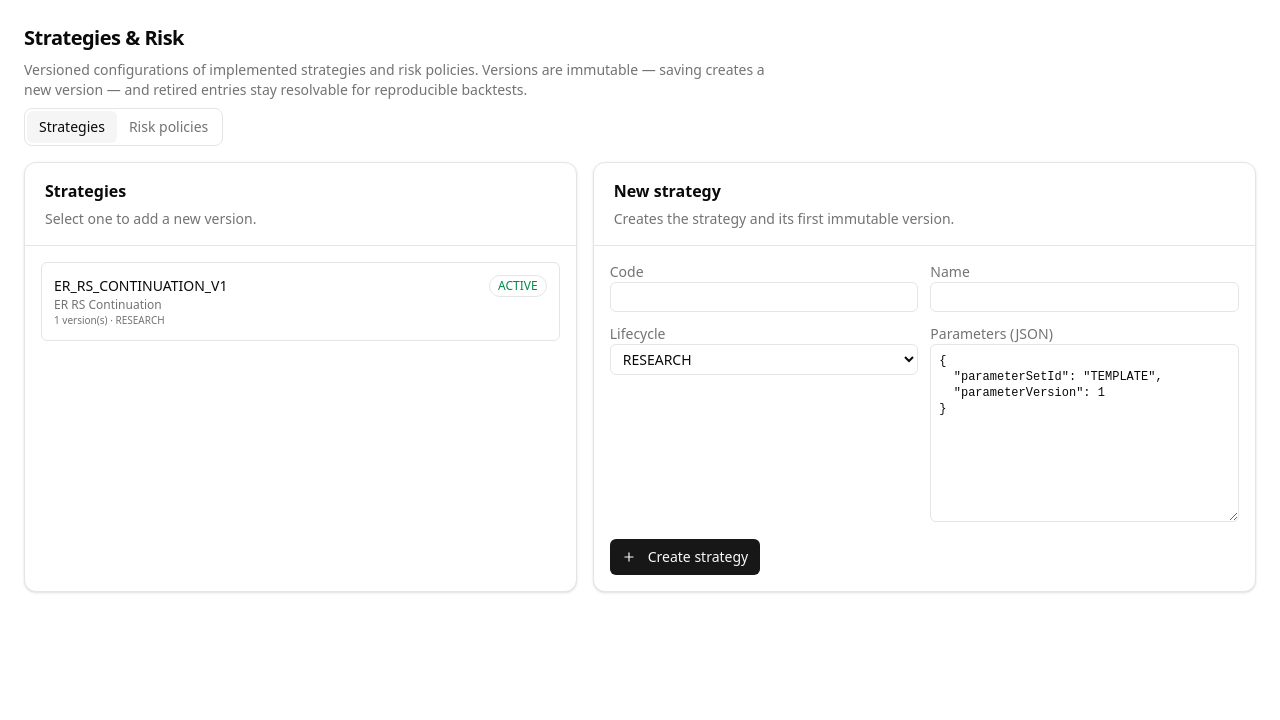
it: creating a strategy sends the edited parameters and reports server validation
The width and height of the screenshot is (1280, 720).
Expected: the text "ER_RS_CONTINUATION_V1" is shown, [54,276,227,296]
In the field named "Strategy code": coordinates (764, 297) [610,282,918,312], type "MY_STRATEGY"
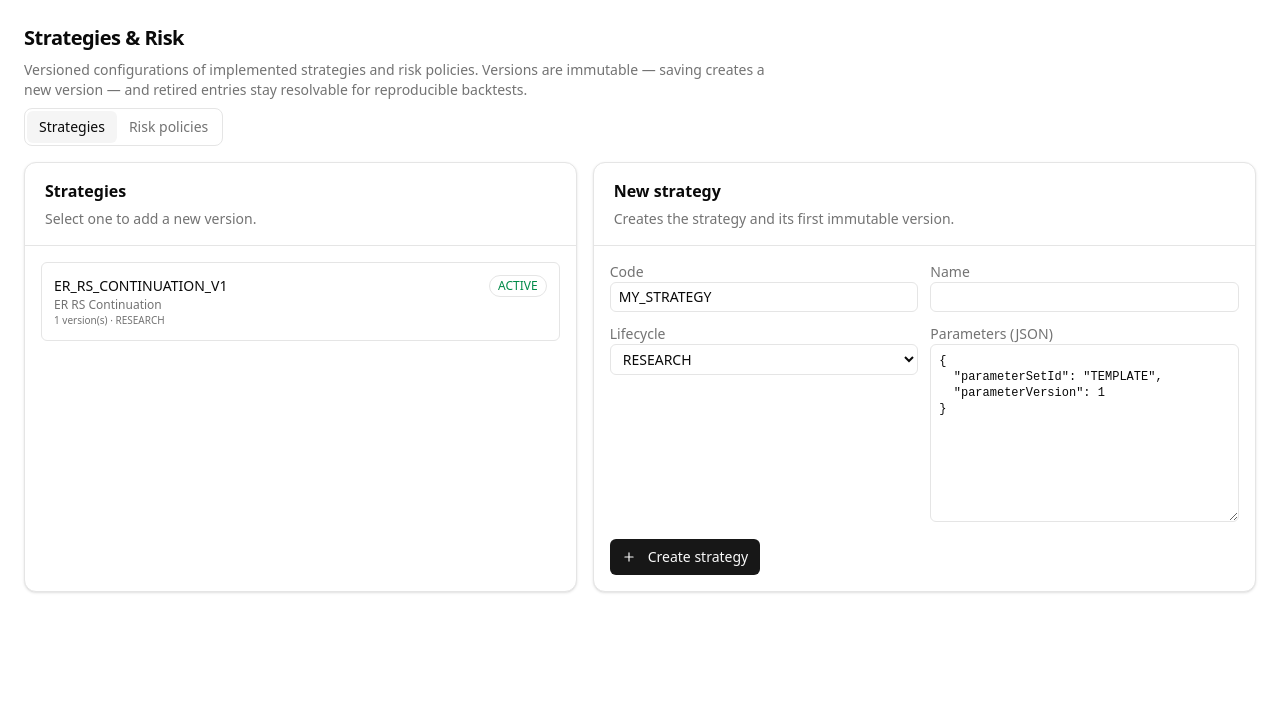
In the field named "Strategy name": coordinates (1085, 297) [930,282,1239,312], type "My Strategy"
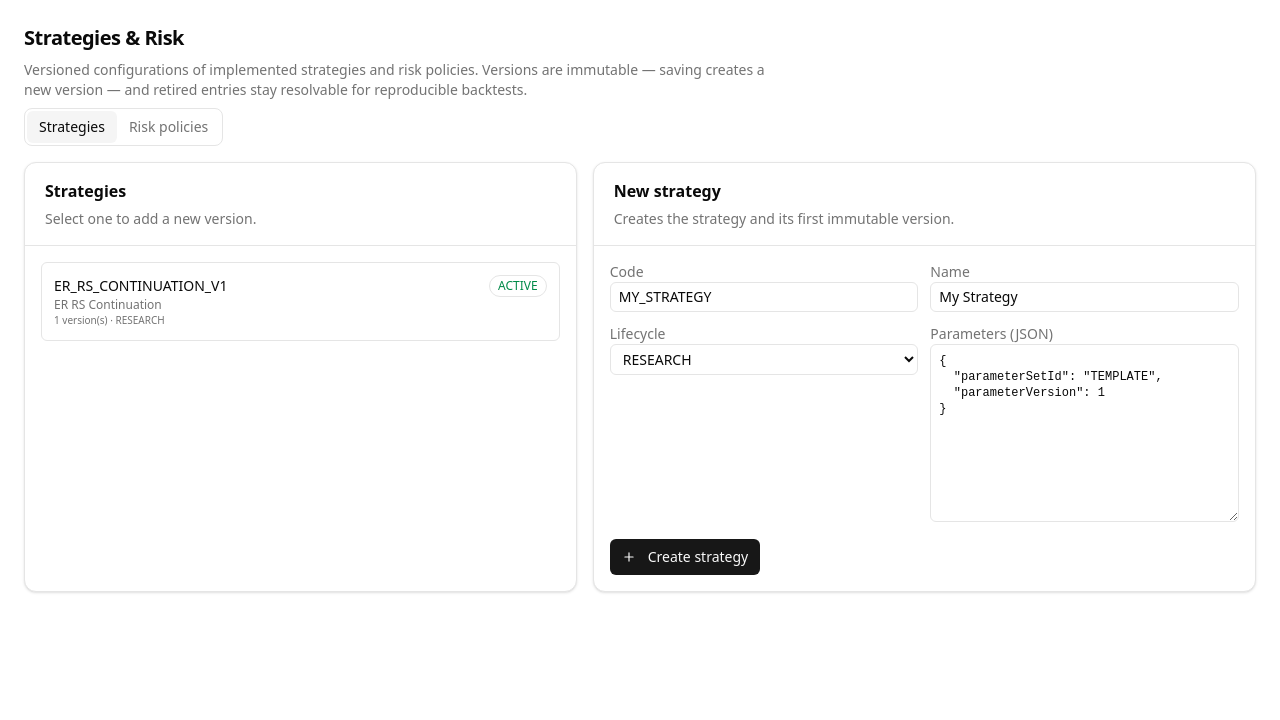
Click the button "Create strategy": coordinates (685, 557) [610,539,760,575]
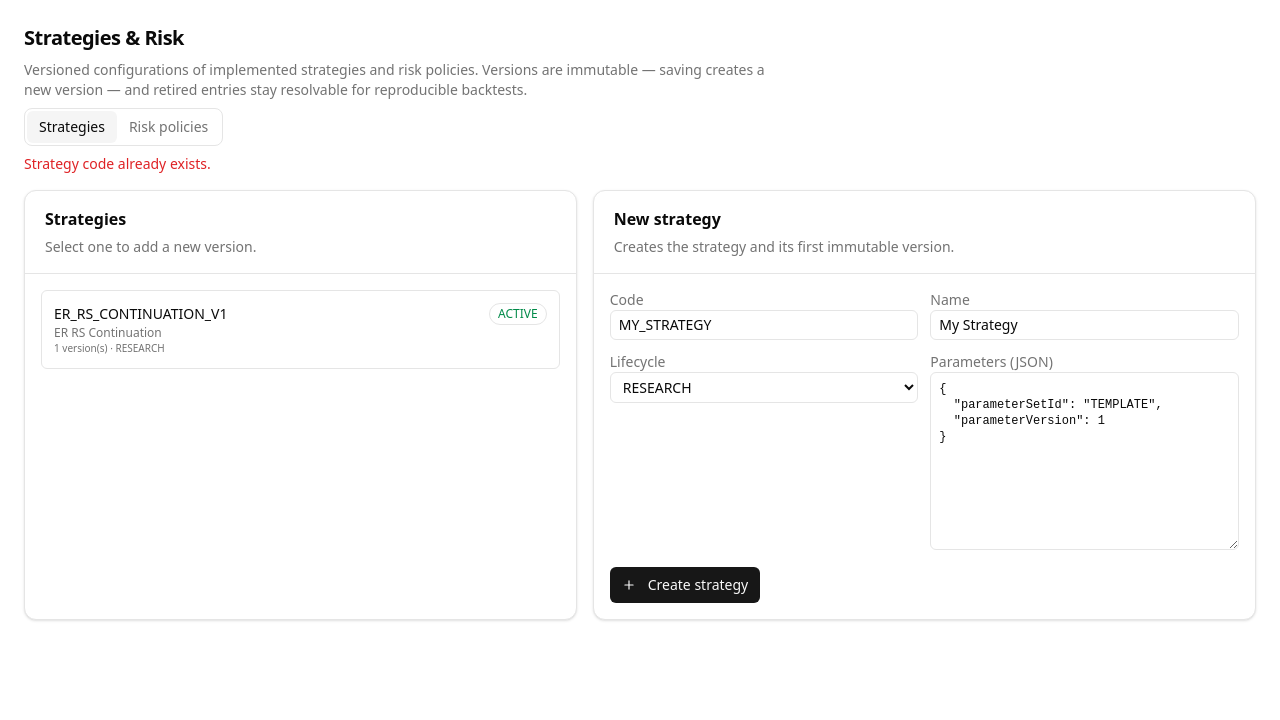
Result: the message shows "Strategy code already exists" at [24,154,211,173]
